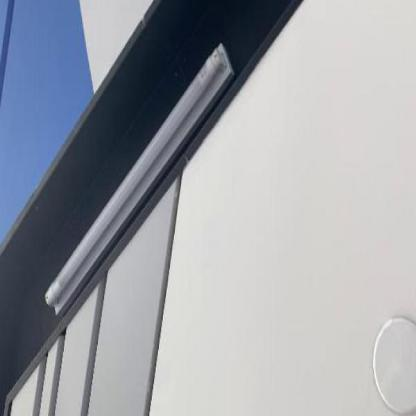light_off: (39, 18, 239, 340)
